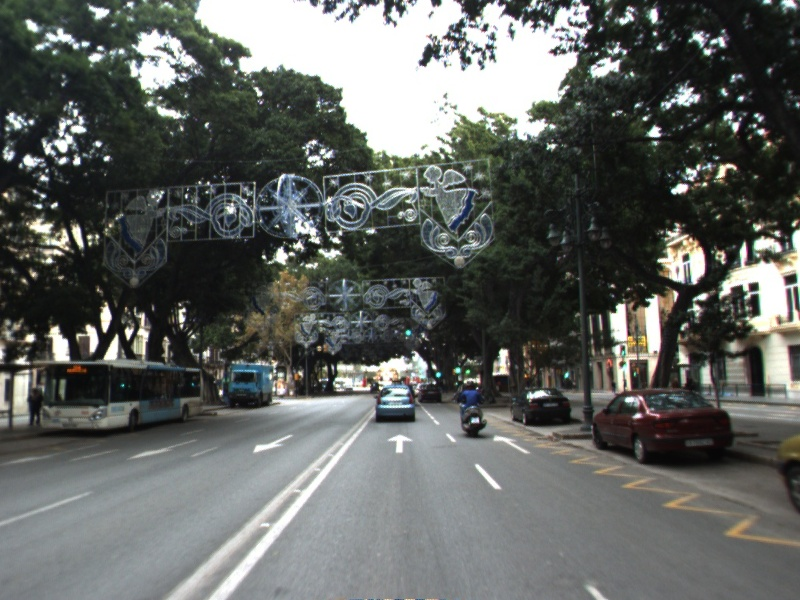STRAIGHT: (491, 432, 533, 455), (386, 432, 416, 454)
